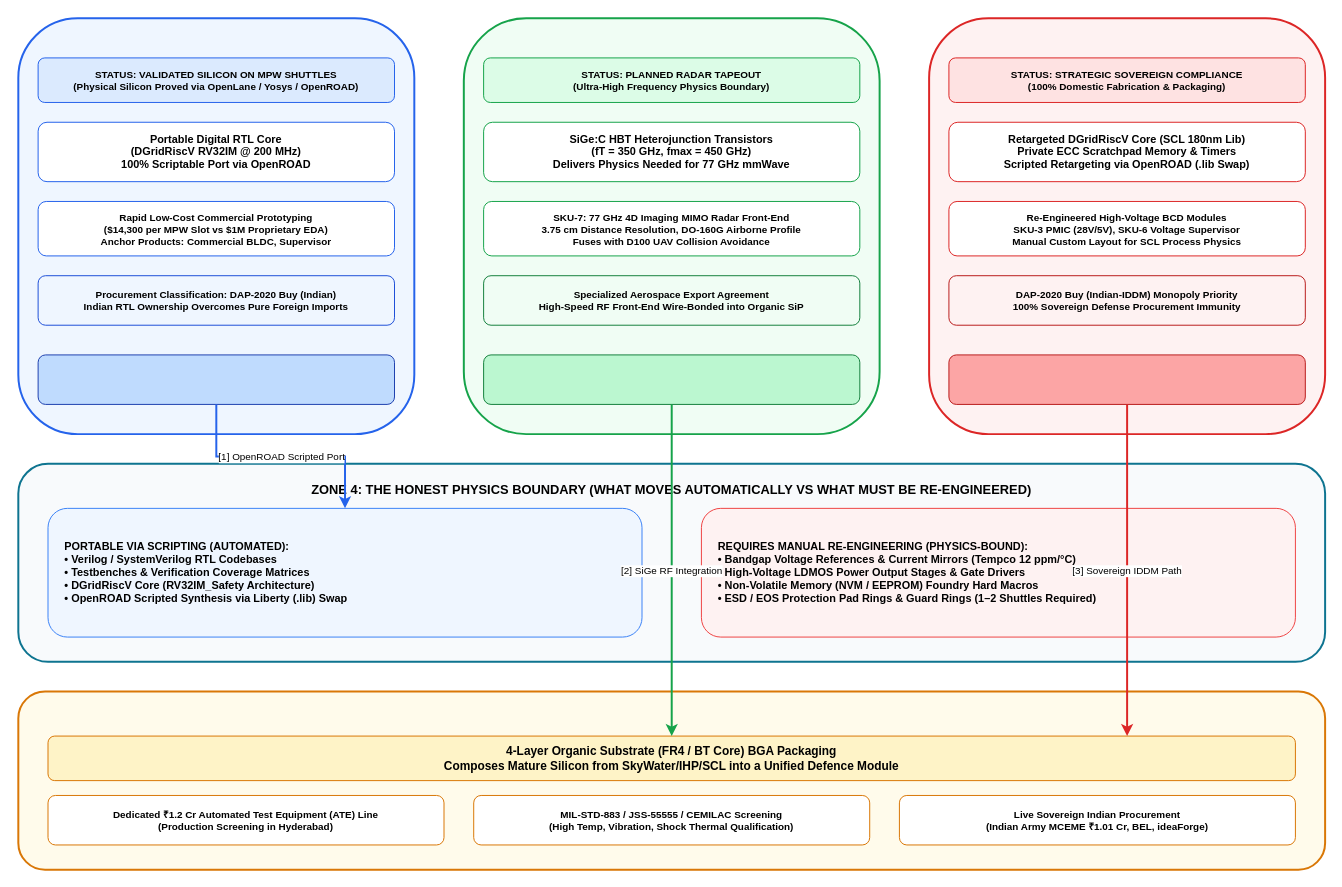
This 1342x887 diagram has some shape labels left out. The box of each missing label's shape, as (x1, y1, x2, y2) in pixels:
Digital Netlist & Testbench Suite (Verilog GDSII): (37, 354, 395, 404)
FACTORY 1: PROVEN · SKYWATER TECHNOLOGY (USA) · SKY130 (130nm CMOS): (17, 17, 415, 435)
FACTORY 2: DIFFERENTIATED · IHP LEIBNIZ (GERMANY) · SG13G2 (130nm SiGe BiCMOS): (462, 17, 880, 435)
FACTORY 3: SOVEREIGN · SCL MOHALI (PUNJAB, INDIA) · 180nm CMOS / BCD: (928, 17, 1326, 435)
Sovereign Qualified Military Silicon (MIL-STD-883): (948, 354, 1305, 404)
Validated RF / mmWave Front-End Die (Known Good Die): (483, 354, 860, 404)
ZONE 5: HETEROGENEOUS MULTI-DIE ORGANIC PACKAGING (HYDERABAD ATMP): (17, 690, 1326, 870)
